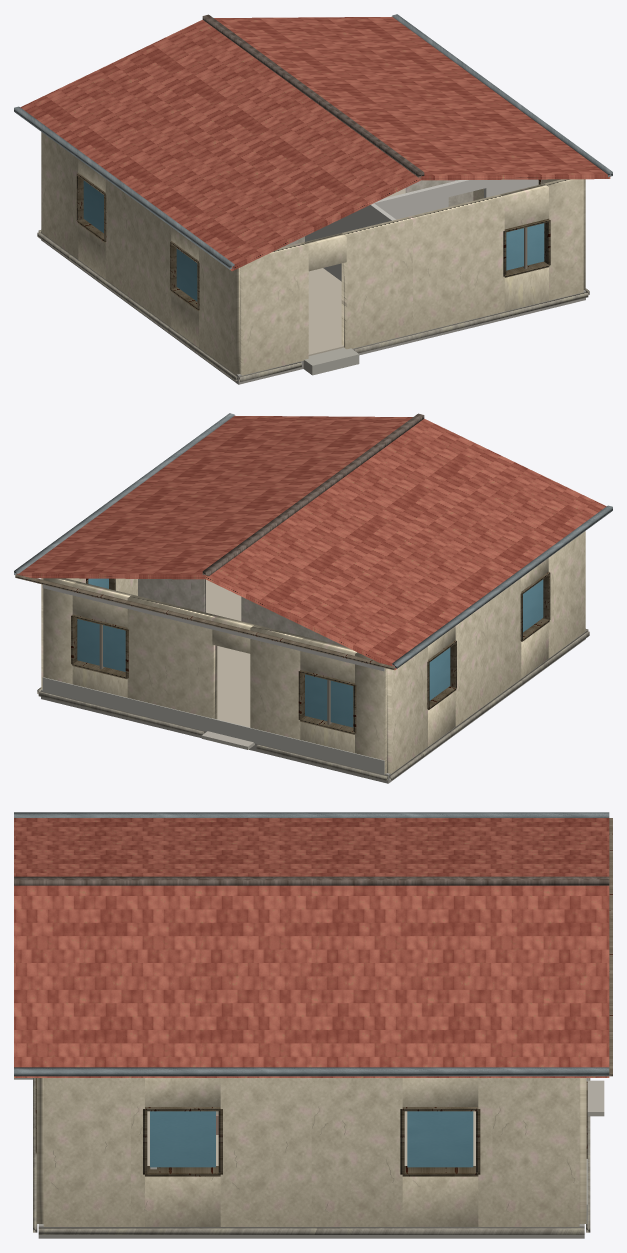
File: HAB_222_Z2_R14_ALBEDO_OTIM_CANDIDATO.gltf
3 renders of one model, top to bottom at view 1: azimuth 30°, elevation 25°; view 2: azimuth 150°, elevation 25°; view 3: azimuth 270°, elevation 25°, orthographic. The views are drawn at different scales.
Parts seen in each view (by area): view 1: HAB_222_COBERTURA_AGUA_O, HAB_222_COBERTURA_AGUA_L, HAB_222_FACHADA_FUNDOS_PAREDE_1, HAB_222_FACHADA_FUNDOS_PAREDE_0, HAB_222_LATERAL_O_PAREDE_1, HAB_222_LATERAL_O_PAREDE_FINAL, HAB_222_FACHADA_FUNDOS_PAREDE_FINAL, HAB_222_LATERAL_O_PAREDE_0, HAB_222_REV26_ARREMATE_EMBASAMENTO, HAB_222_PISO_INTERNO, HAB_222_COBERTURA_CUMEEIRA, HAB_222_COBERTURA_CALHA_O (+15 smaller); view 2: HAB_222_COBERTURA_AGUA_O, HAB_222_COBERTURA_AGUA_L, HAB_222_FACHADA_FRONTAL_PAREDE_2, HAB_222_LATERAL_O_PAREDE_1, HAB_222_COSTEIRA_BARRA_BASE, HAB_222_FACHADA_FRONTAL_PAREDE_1, HAB_222_LATERAL_O_PAREDE_0, HAB_222_LATERAL_O_PAREDE_FINAL, HAB_222_PISO_INTERNO, HAB_222_REV26_ARREMATE_EMBASAMENTO, HAB_222_FACHADA_FRONTAL_PAREDE_0, HAB_222_FACHADA_FRONTAL_PAREDE_FINAL (+19 smaller); view 3: HAB_222_COBERTURA_AGUA_L, HAB_222_COBERTURA_AGUA_O, HAB_222_LATERAL_L_PAREDE_1, HAB_222_LATERAL_L_PAREDE_0, HAB_222_LATERAL_L_PAREDE_FINAL, HAB_222_COBERTURA_CUMEEIRA, HAB_222_COBERTURA_CALHA_L, HAB_222_REV26_ARREMATE_EMBASAMENTO, HAB_222_LATERAL_L_PEITORIL_0, HAB_222_LATERAL_L_PEITORIL_1, HAB_222_LATERAL_L_VIDRO_5, HAB_222_LATERAL_L_VIDRO_6 (+11 smaller).
Part boxes in pixels (left/top/right/bottom): HAB_222_COBERTURA_AGUA_O: left=20, top=19, right=421, bottom=271; HAB_222_COBERTURA_AGUA_L: left=214, top=16, right=610, bottom=180; HAB_222_FACHADA_FUNDOS_PAREDE_1: left=341, top=194, right=504, bottom=349; HAB_222_FACHADA_FUNDOS_PAREDE_0: left=240, top=242, right=308, bottom=375; HAB_222_LATERAL_O_PAREDE_1: left=105, top=179, right=171, bottom=327; HAB_222_LATERAL_O_PAREDE_FINAL: left=199, top=247, right=239, bottom=374; HAB_222_FACHADA_FUNDOS_PAREDE_FINAL: left=544, top=179, right=583, bottom=300; HAB_222_LATERAL_O_PAREDE_0: left=41, top=132, right=78, bottom=259; HAB_222_REV26_ARREMATE_EMBASAMENTO: left=37, top=230, right=589, bottom=381; HAB_222_PISO_INTERNO: left=308, top=188, right=405, bottom=355; HAB_222_COBERTURA_CUMEEIRA: left=202, top=14, right=424, bottom=178; HAB_222_COBERTURA_CALHA_O: left=14, top=106, right=234, bottom=269; HAB_222_COBERTURA_AGUA_O: left=205, top=418, right=606, bottom=670; HAB_222_COBERTURA_AGUA_L: left=17, top=415, right=412, bottom=579; HAB_222_FACHADA_FRONTAL_PAREDE_2: left=127, top=594, right=217, bottom=719; HAB_222_LATERAL_O_PAREDE_1: left=455, top=578, right=521, bottom=726; HAB_222_COSTEIRA_BARRA_BASE: left=42, top=677, right=384, bottom=774; HAB_222_FACHADA_FRONTAL_PAREDE_1: left=250, top=624, right=304, bottom=739; HAB_222_LATERAL_O_PAREDE_0: left=387, top=646, right=427, bottom=773; HAB_222_LATERAL_O_PAREDE_FINAL: left=548, top=531, right=585, bottom=658; HAB_222_PISO_INTERNO: left=206, top=579, right=250, bottom=727; HAB_222_REV26_ARREMATE_EMBASAMENTO: left=37, top=629, right=589, bottom=780; HAB_222_FACHADA_FRONTAL_PAREDE_0: left=355, top=652, right=386, bottom=774; HAB_222_FACHADA_FRONTAL_PAREDE_FINAL: left=43, top=578, right=76, bottom=684; HAB_222_COBERTURA_AGUA_L: left=14, top=885, right=609, bottom=1077; HAB_222_COBERTURA_AGUA_O: left=14, top=818, right=609, bottom=876; HAB_222_LATERAL_L_PAREDE_1: left=220, top=1078, right=402, bottom=1226; HAB_222_LATERAL_L_PAREDE_0: left=478, top=1078, right=579, bottom=1226; HAB_222_LATERAL_L_PAREDE_FINAL: left=43, top=1078, right=144, bottom=1226; HAB_222_COBERTURA_CUMEEIRA: left=14, top=876, right=609, bottom=885; HAB_222_COBERTURA_CALHA_L: left=14, top=1067, right=609, bottom=1076; HAB_222_REV26_ARREMATE_EMBASAMENTO: left=33, top=1078, right=590, bottom=1234; HAB_222_LATERAL_L_PEITORIL_0: left=402, top=1176, right=478, bottom=1226; HAB_222_LATERAL_L_PEITORIL_1: left=145, top=1176, right=220, bottom=1226; HAB_222_LATERAL_L_VIDRO_5: left=407, top=1111, right=473, bottom=1167; HAB_222_LATERAL_L_VIDRO_6: left=150, top=1111, right=215, bottom=1167.
Bounding box in the file's own units: 9.94 × 4.36 × 9.74.
Materials: 10 (10 with a texture image).
